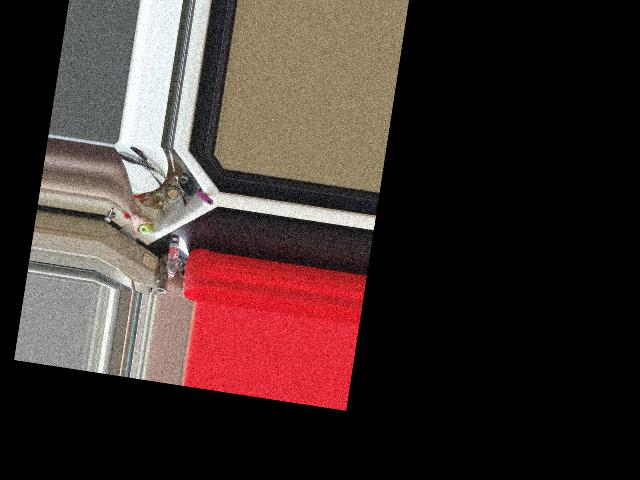apple: (137, 217, 154, 237)
